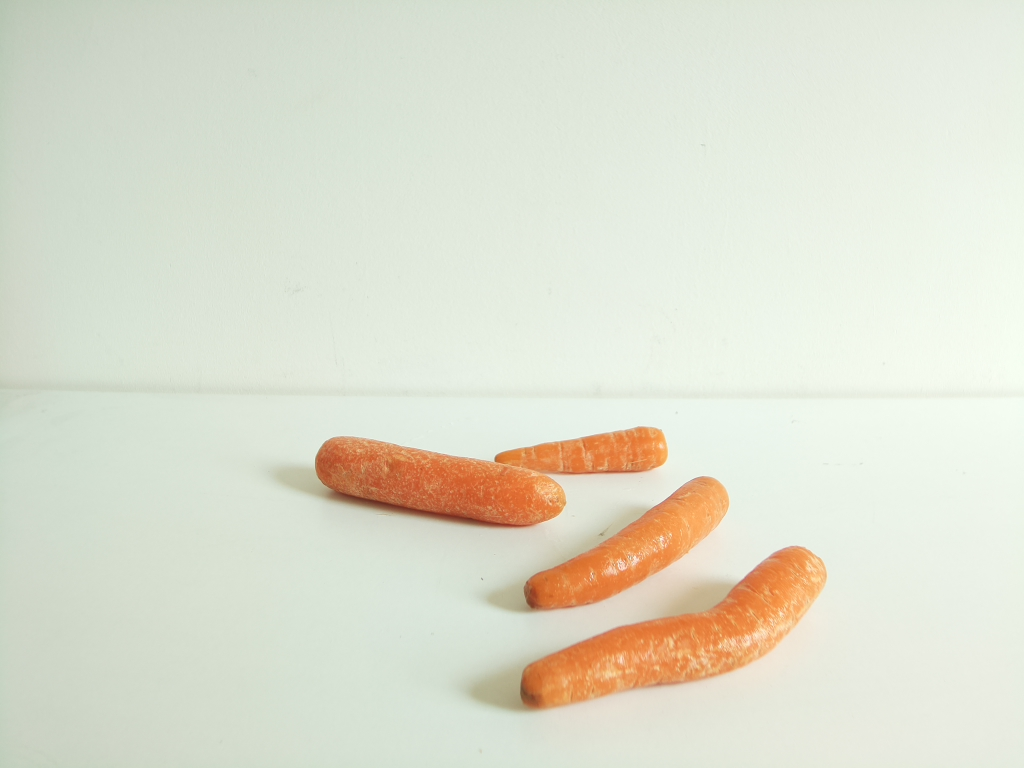carrot: (517, 542, 826, 714), (519, 473, 729, 612), (312, 435, 568, 528), (498, 424, 668, 475)
